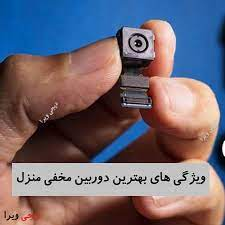Camera: (114, 25, 159, 65)
